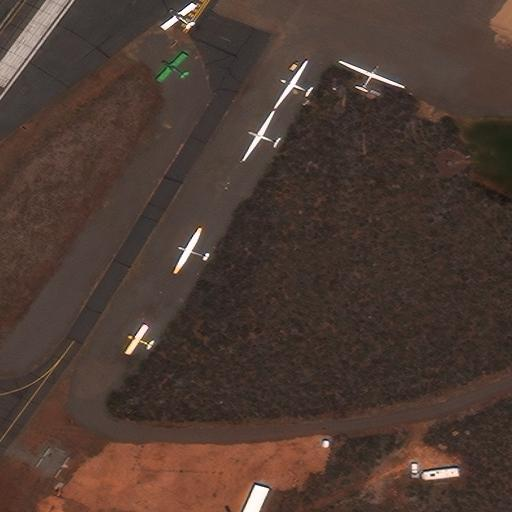Medium Civil Transport: (340, 60, 405, 90), (240, 110, 278, 160), (273, 60, 310, 108), (172, 227, 208, 272)
Small Civil Transport: (155, 51, 186, 79), (124, 323, 153, 352), (160, 2, 191, 27)
